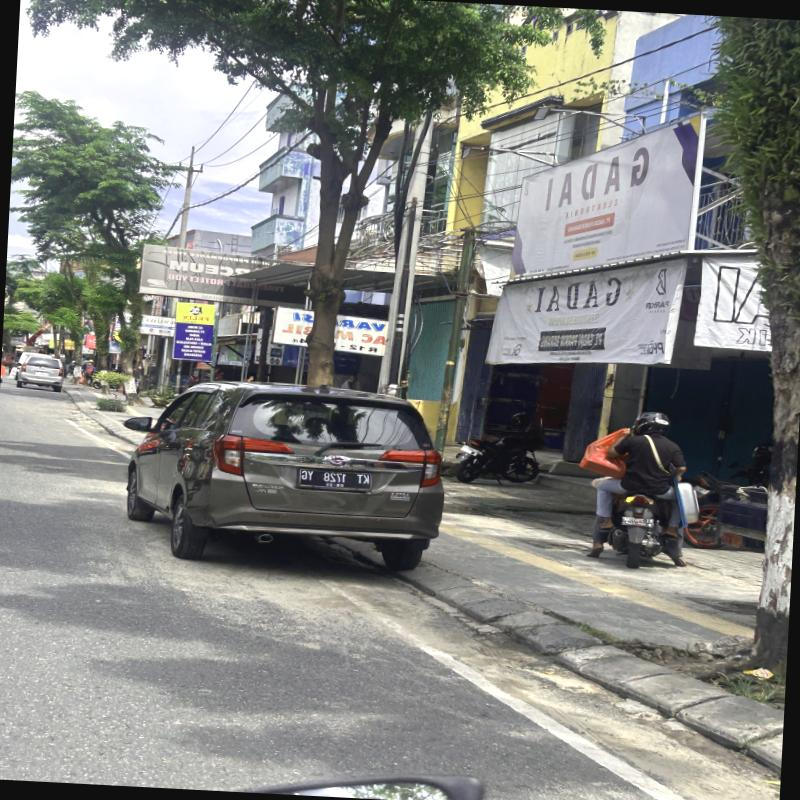license plate on a car: (299, 467, 372, 492)
